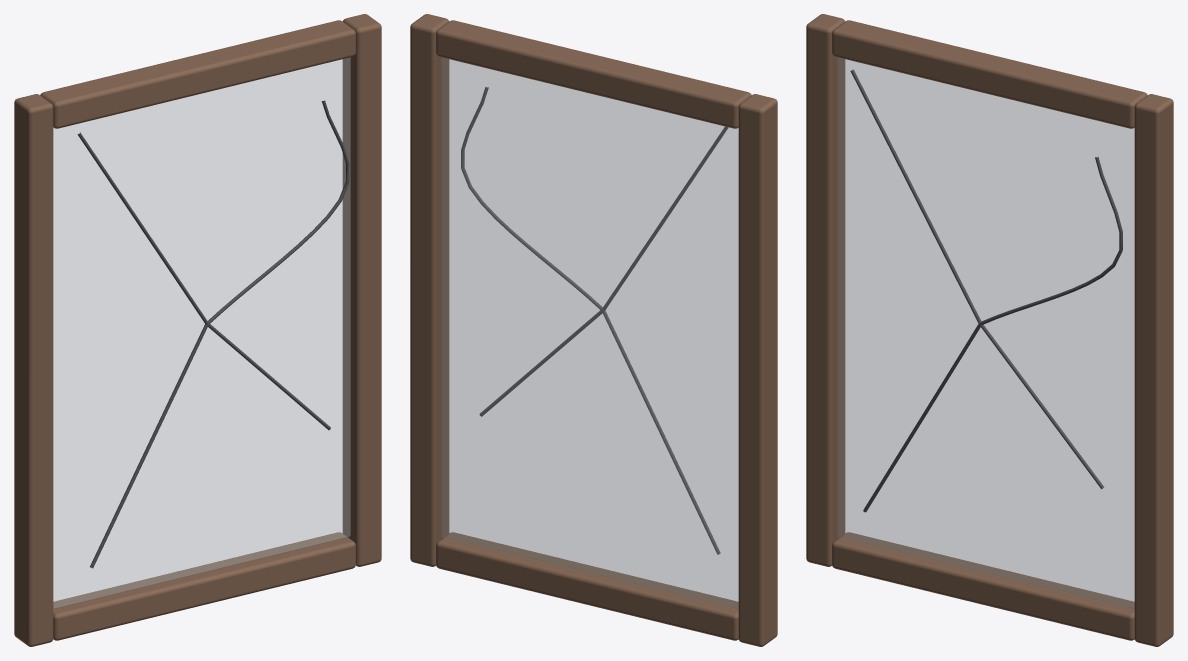
Rendered from paranormal-investigation-house-cracked-mirror-018381ca__26871.glb.
3 views of the same model, side by side, from view 1: azimuth 30°, elevation 25°; view 2: azimuth 150°, elevation 25°; view 3: azimuth 330°, elevation 25° (orthographic).
Parts seen in each view (by area): view 1: cracked-mirror; view 2: cracked-mirror; view 3: cracked-mirror.
Boxes of the visible parts, bbox=[...] form: cracked-mirror: bbox=[14, 14, 381, 646]; cracked-mirror: bbox=[410, 14, 777, 646]; cracked-mirror: bbox=[806, 14, 1173, 646].
Size of the model in its own units: 0.55 by 0.8 by 0.05.
